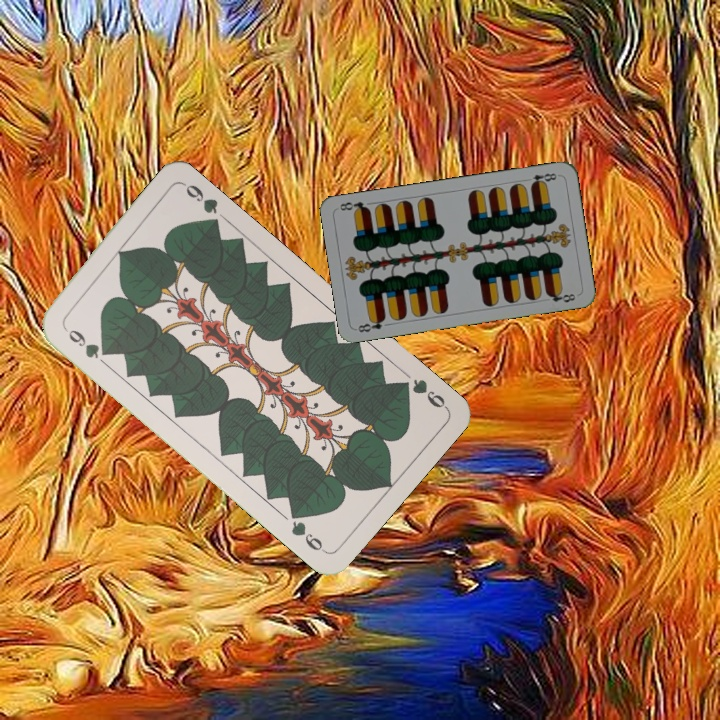E8: (521, 169, 561, 189), (354, 313, 388, 335)
G9: (394, 374, 450, 411), (59, 322, 112, 361)
